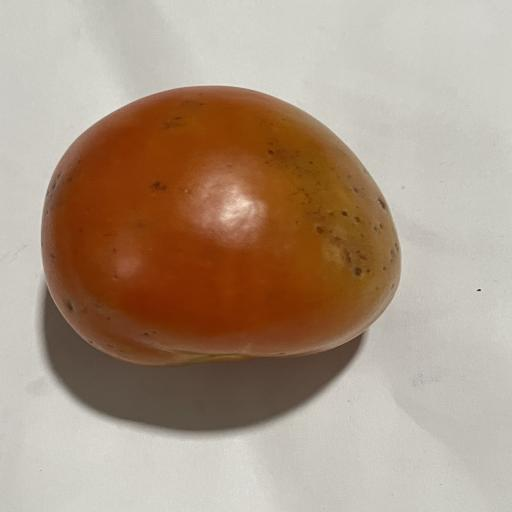ripe: (42, 87, 400, 366)
